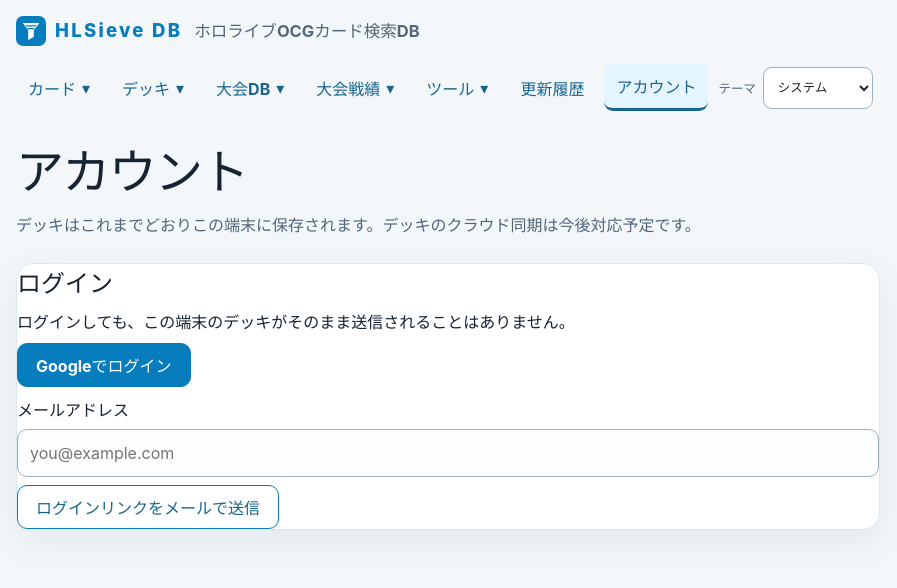
Test: account page while signed out › sends a magic link to the typed address and says so
The image size is (897, 588).
expect the heading "ログイン" is shown: met, box [17,269,113,298]
Type "  Player@Example.com  " into the field labelled "メールアドレス" at (448,453), box [17,429,879,477]
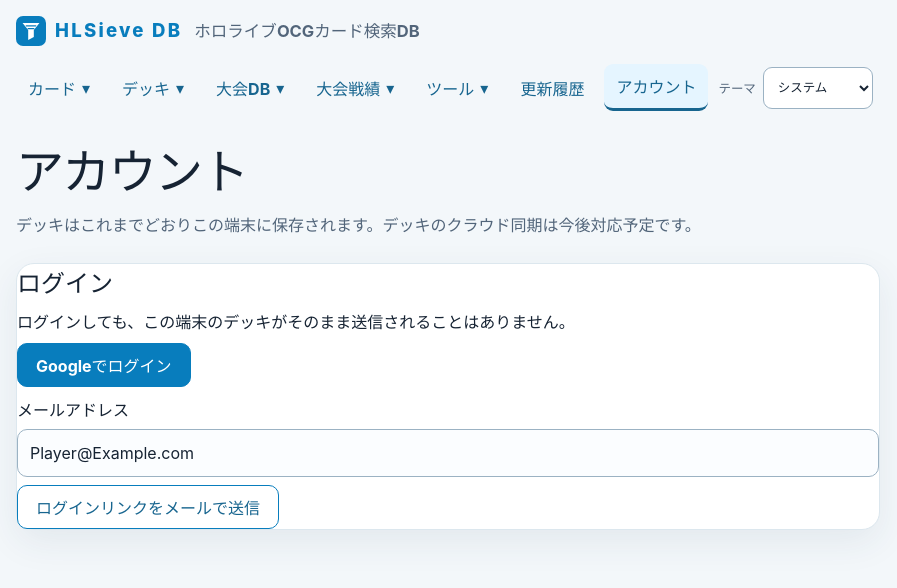
Click the button "ログインリンクをメールで送信" at (148,507), box [17,485,279,529]
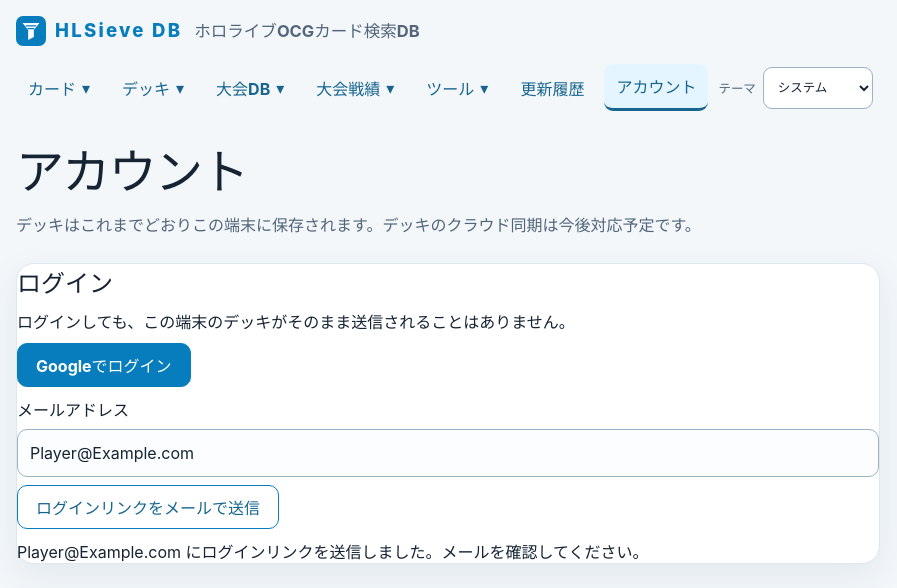
expect the text "Player@Example.com にログインリンクを送信しました。メールを確認してください。" is shown: met, box [17,542,649,562]
